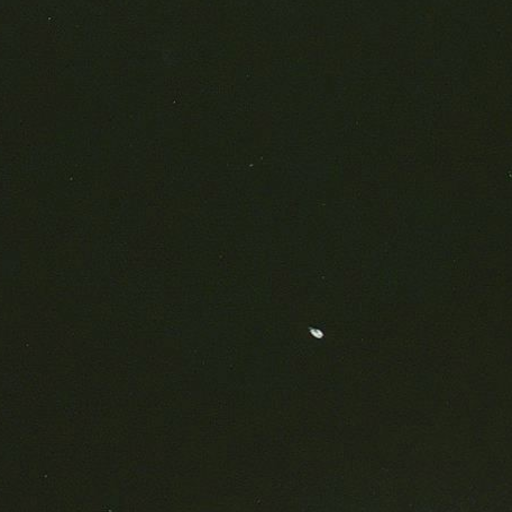ship: (303, 322, 326, 342)
